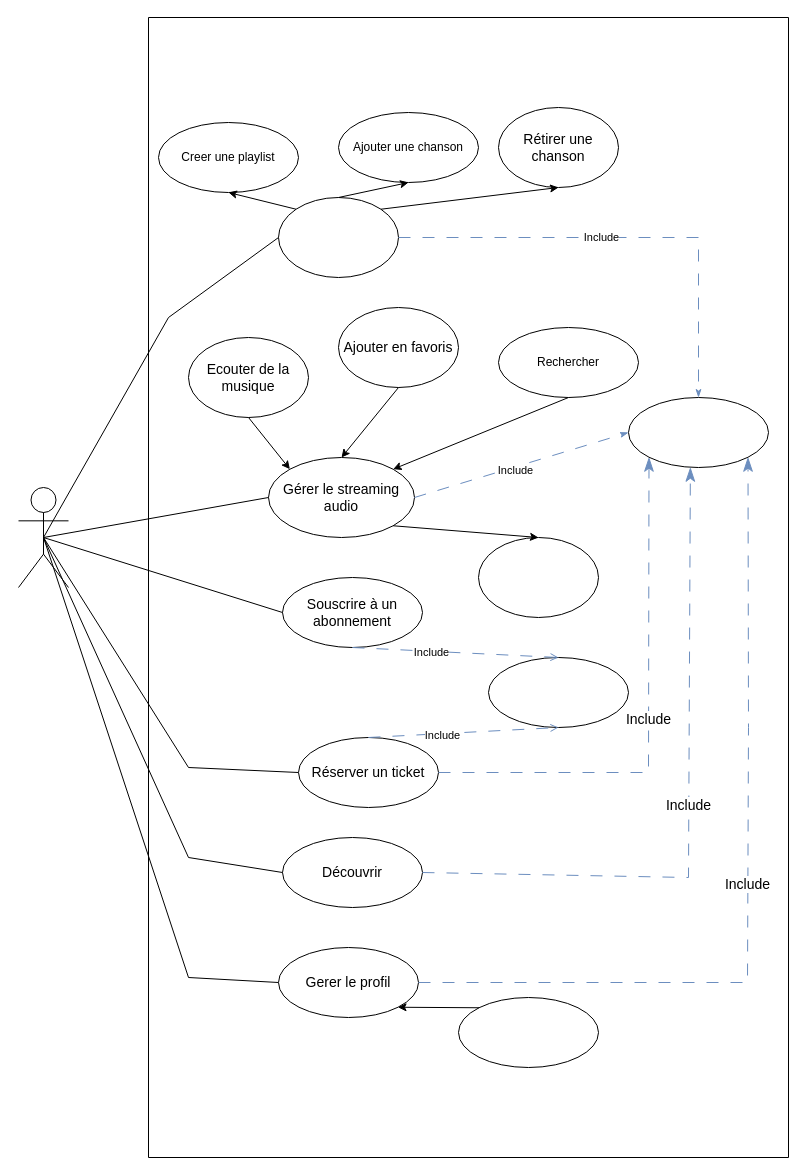
The diagram is 806 pixels wide and 1175 high, and some of its shapes have lost their labels. The centre of each missing label's shape, as x and y in pixels:
Auditeur: [43,537]
Gérer Playlist: [338,237]
Mdifier la bio: [528,1032]
Payer: [558,692]
Se connecter: [698,432]
Télécharger pour hors ligne: [538,577]
